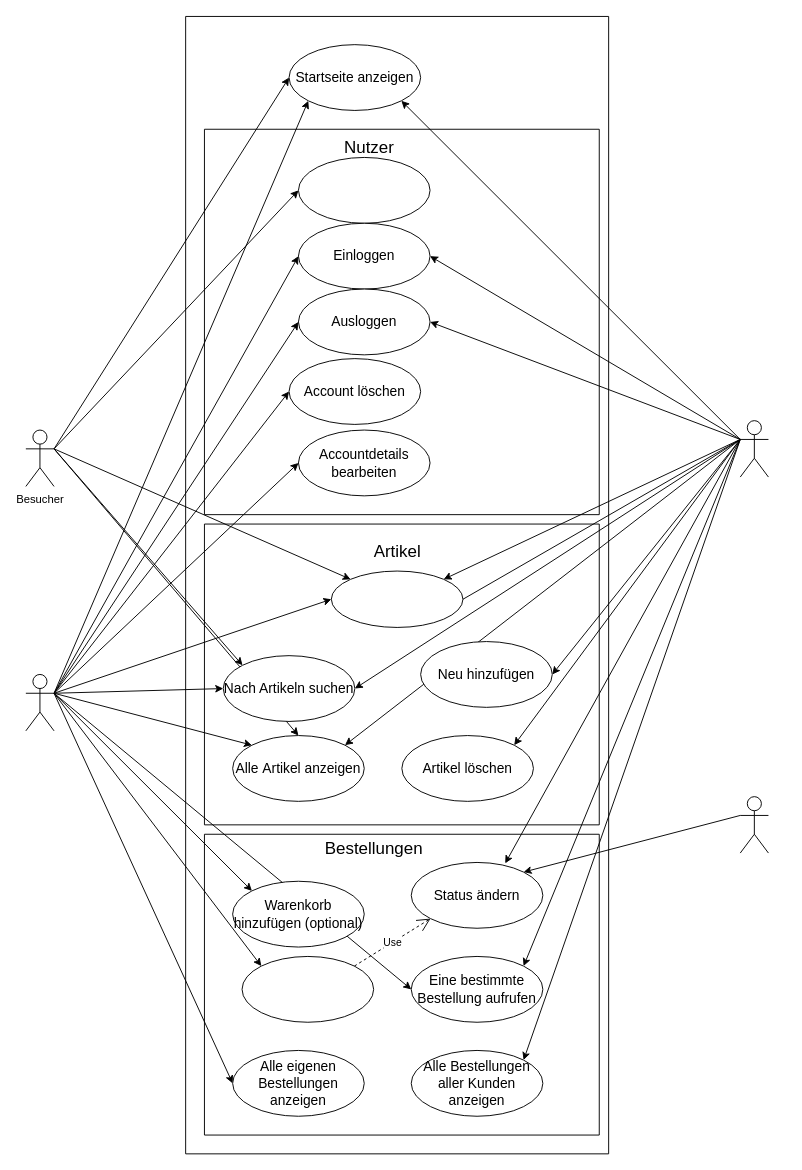
This 802x1170 diagram has some shape labels left out. Here are the shapes that lost their labels. From the top down, the box of each, then its label:
(298, 157, 430, 223): Registrieren
(739, 420, 768, 477): Mitarbeiter
(330, 570, 463, 627): Alle Informationen anzeigen
(25, 674, 54, 731): Kunde
(739, 796, 768, 853): Versand-API
(241, 956, 374, 1022): Bestellung erzeugen
